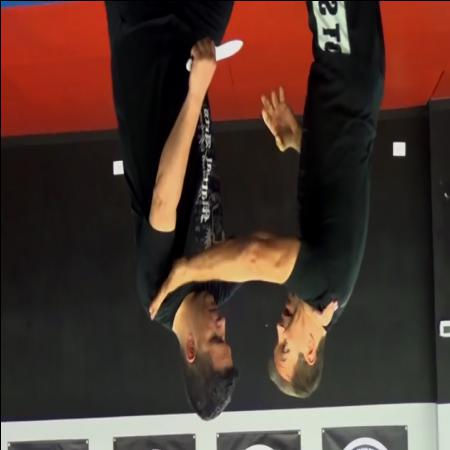long weapon: (182, 34, 246, 75)
